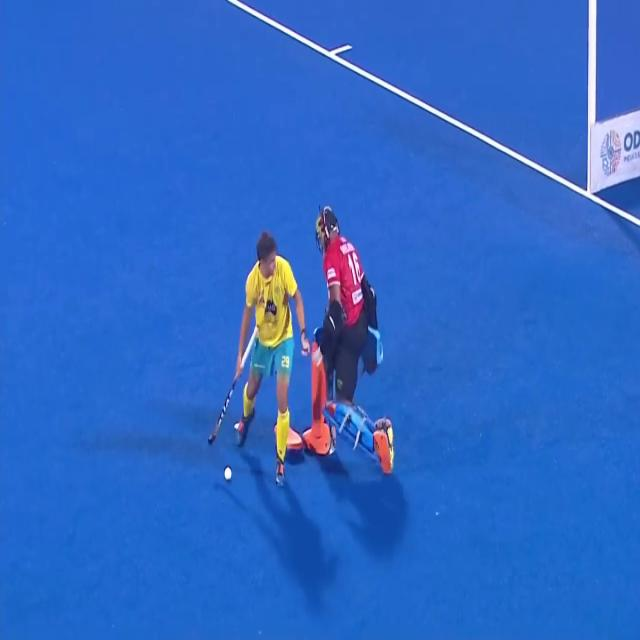ball: (215, 455, 235, 492)
